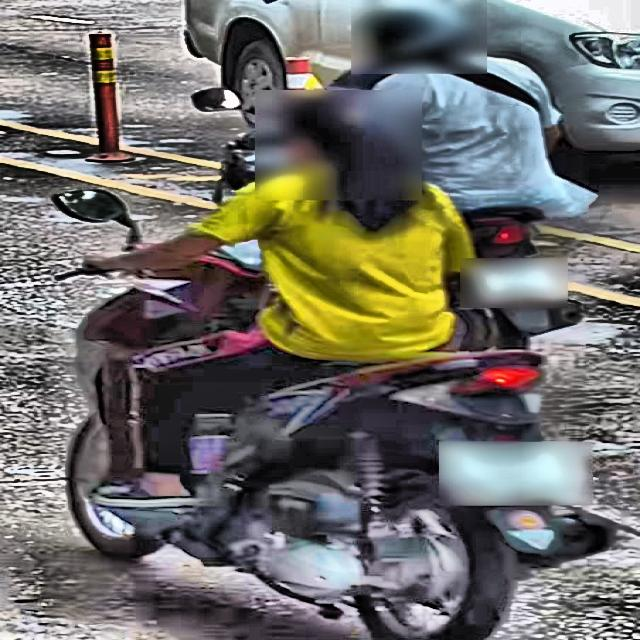motorcycle: (54, 185, 609, 640)
